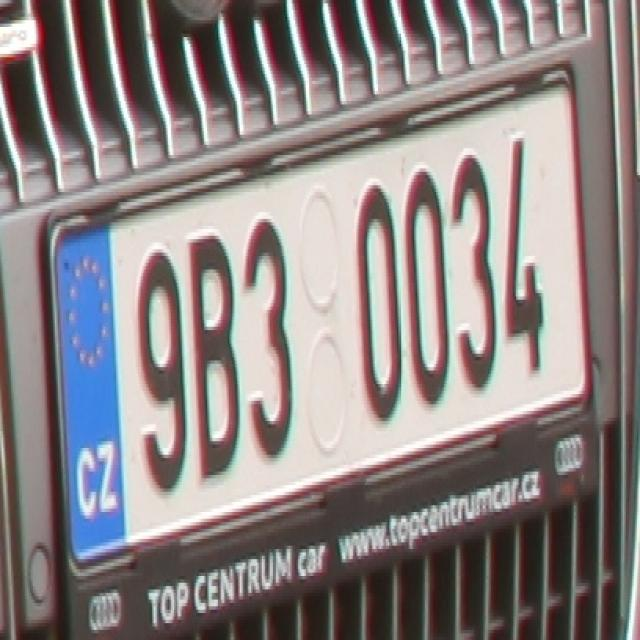0: (353, 178, 405, 418), (404, 162, 452, 411)
3: (245, 212, 295, 468), (449, 148, 497, 391)
4: (502, 134, 543, 370)
9: (133, 246, 185, 498)
B: (186, 229, 242, 478)
